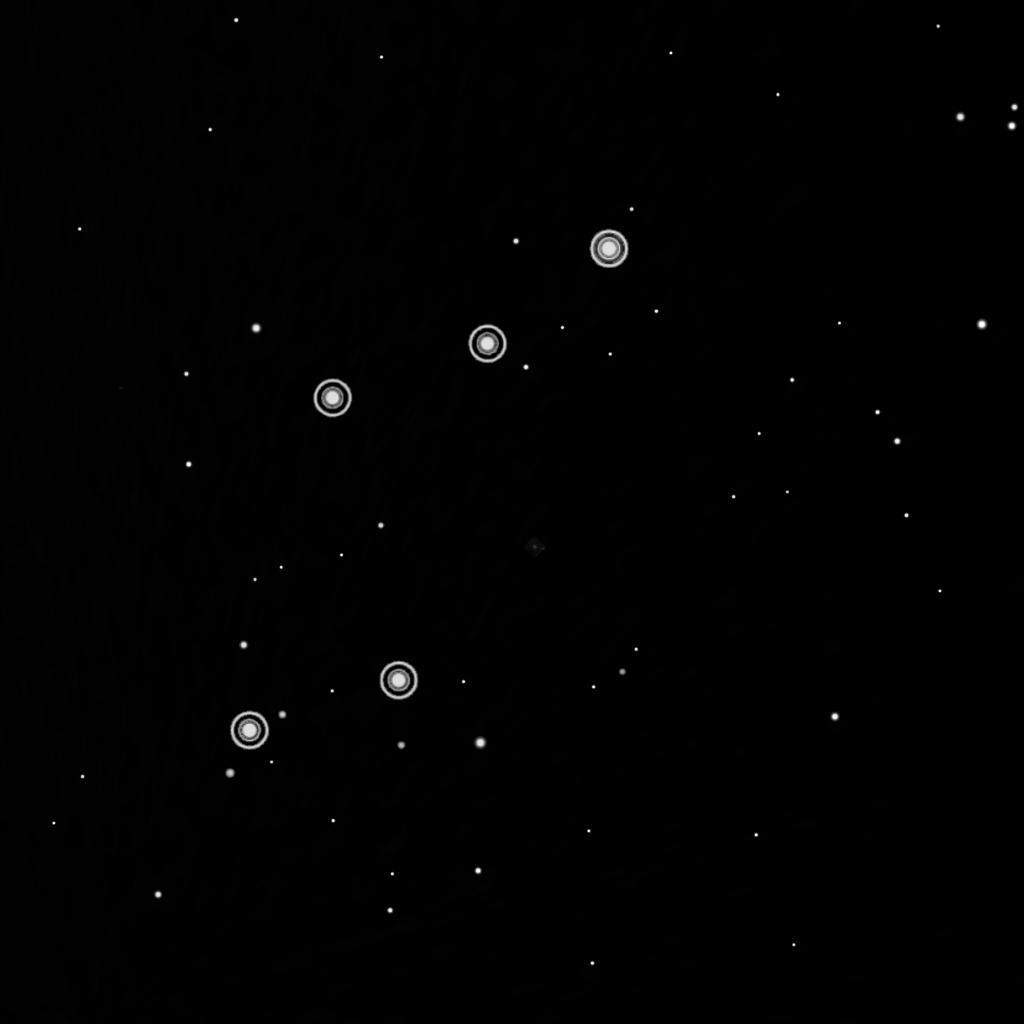lyra: (224, 219, 634, 759)
